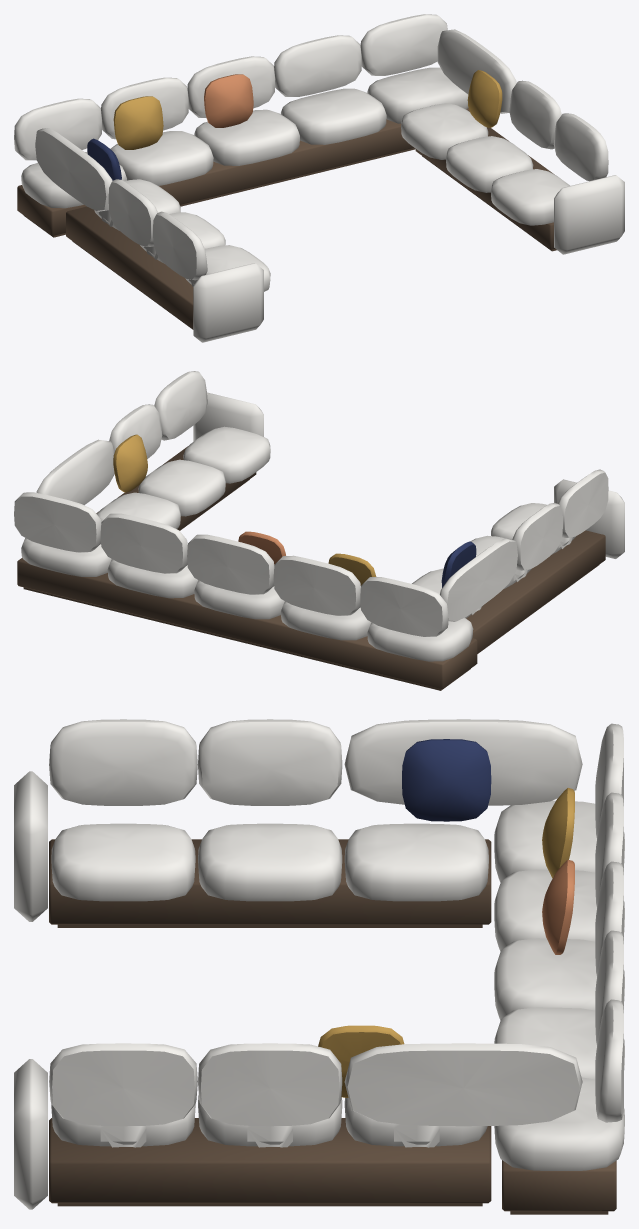
The model's file is cloud-sofa-lod1.glb.
3 views of the same model, one above another, from view 1: azimuth 30°, elevation 25°; view 2: azimuth 150°, elevation 25°; view 3: azimuth 270°, elevation 25° (orthographic). The views are drawn at different scales.
Parts seen in each view (by area): view 1: cloud-sofa.lod1__cloud boucle textile, cloud-sofa.lod1__honey ash, cloud-sofa.lod1__ochre textile, cloud-sofa.lod1__terracotta, cloud-sofa.lod1__indigo textile; view 2: cloud-sofa.lod1__cloud boucle textile, cloud-sofa.lod1__honey ash, cloud-sofa.lod1__ochre textile, cloud-sofa.lod1__terracotta, cloud-sofa.lod1__indigo textile; view 3: cloud-sofa.lod1__cloud boucle textile, cloud-sofa.lod1__honey ash, cloud-sofa.lod1__indigo textile, cloud-sofa.lod1__ochre textile, cloud-sofa.lod1__terracotta.
Boxes of the visible parts, x1,y1,x2,y2 form: cloud-sofa.lod1__cloud boucle textile: (14,14,624,342); cloud-sofa.lod1__honey ash: (17,108,556,329); cloud-sofa.lod1__ochre textile: (113,70,502,149); cloud-sofa.lod1__terracotta: (204,74,253,127); cloud-sofa.lod1__indigo textile: (87,138,121,180); cloud-sofa.lod1__cloud boucle textile: (14,371,624,661); cloud-sofa.lod1__honey ash: (17,446,605,690); cloud-sofa.lod1__ochre textile: (113,434,376,585); cloud-sofa.lod1__terracotta: (238,531,285,564); cloud-sofa.lod1__indigo textile: (441,541,476,587); cloud-sofa.lod1__cloud boucle textile: (14,719,624,1209); cloud-sofa.lod1__honey ash: (49,839,616,1214); cloud-sofa.lod1__indigo textile: (402,739,491,821); cloud-sofa.lod1__ochre textile: (318,788,574,1097); cloud-sofa.lod1__terracotta: (542,859,574,954).
Size of the model in its own units: 3.83 by 0.8597 by 2.87.
